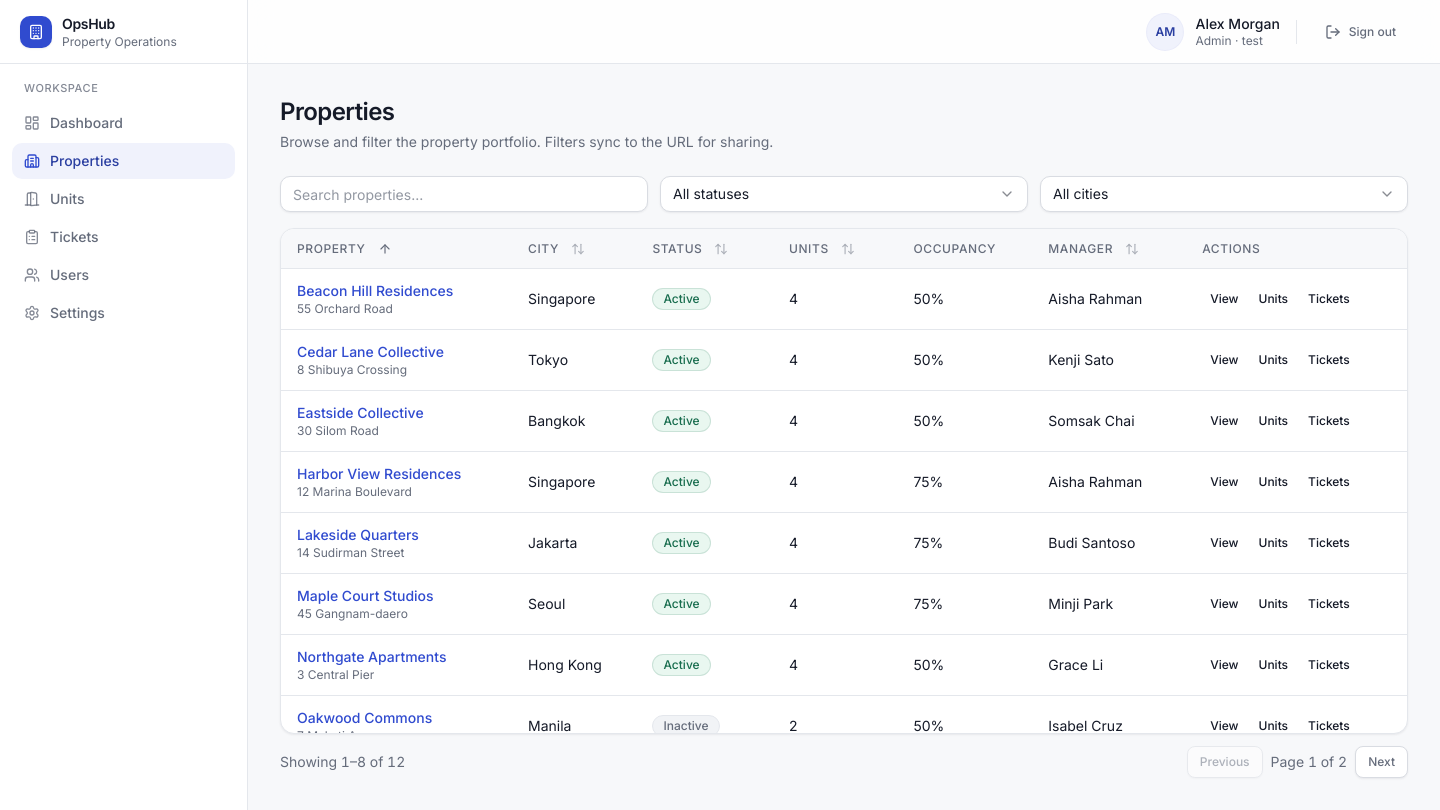
Test: Properties page › filters properties by status via URL-backed controls
Check: the link "Harbor View Residences" is shown, box x1=297 y1=465 x2=461 y2=482
Step 1. Click the dropdown named "Filter by status" → (711, 194), box x1=660 y1=176 x2=1028 y2=212
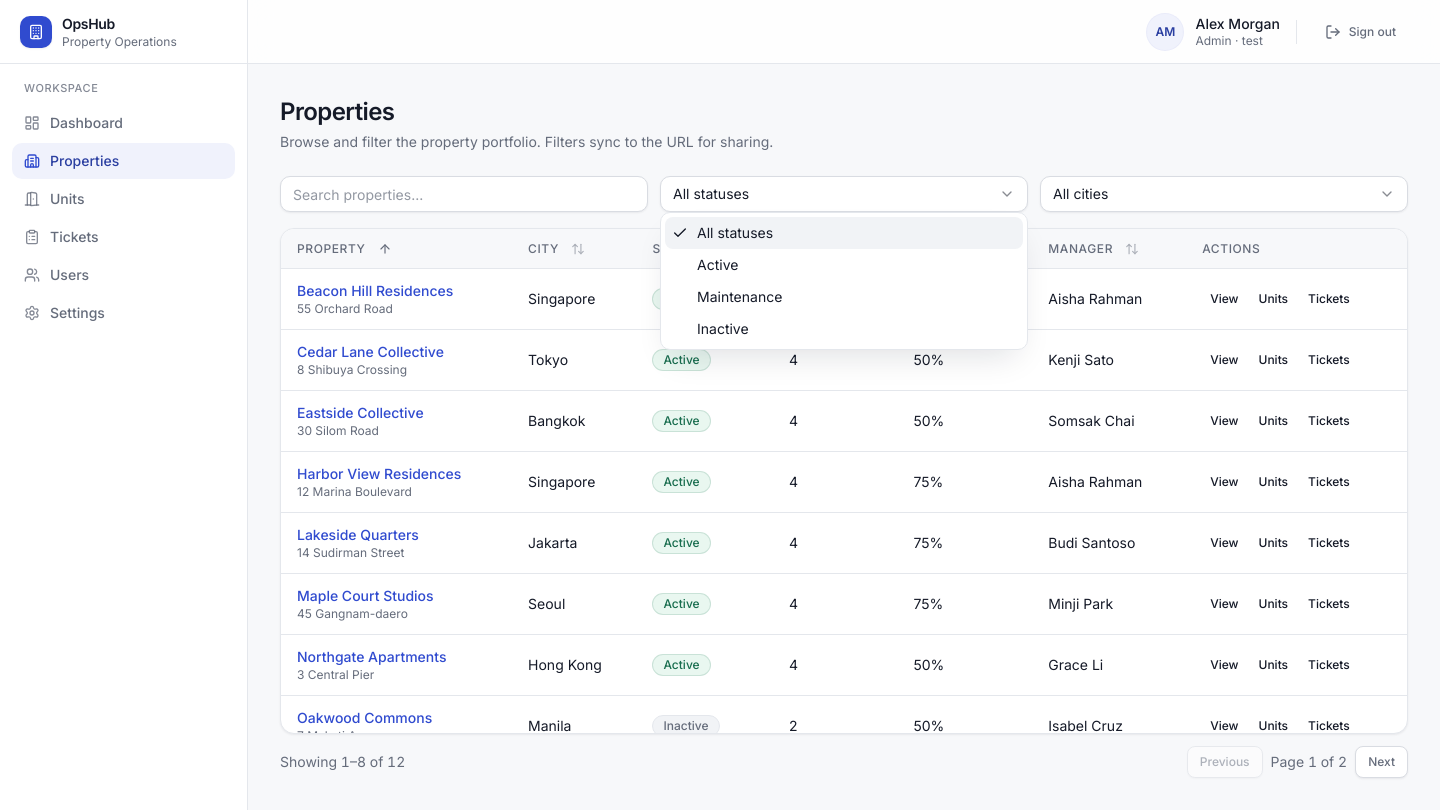
Step 2. Click the option "Inactive" → (723, 328), box x1=697 y1=320 x2=749 y2=337
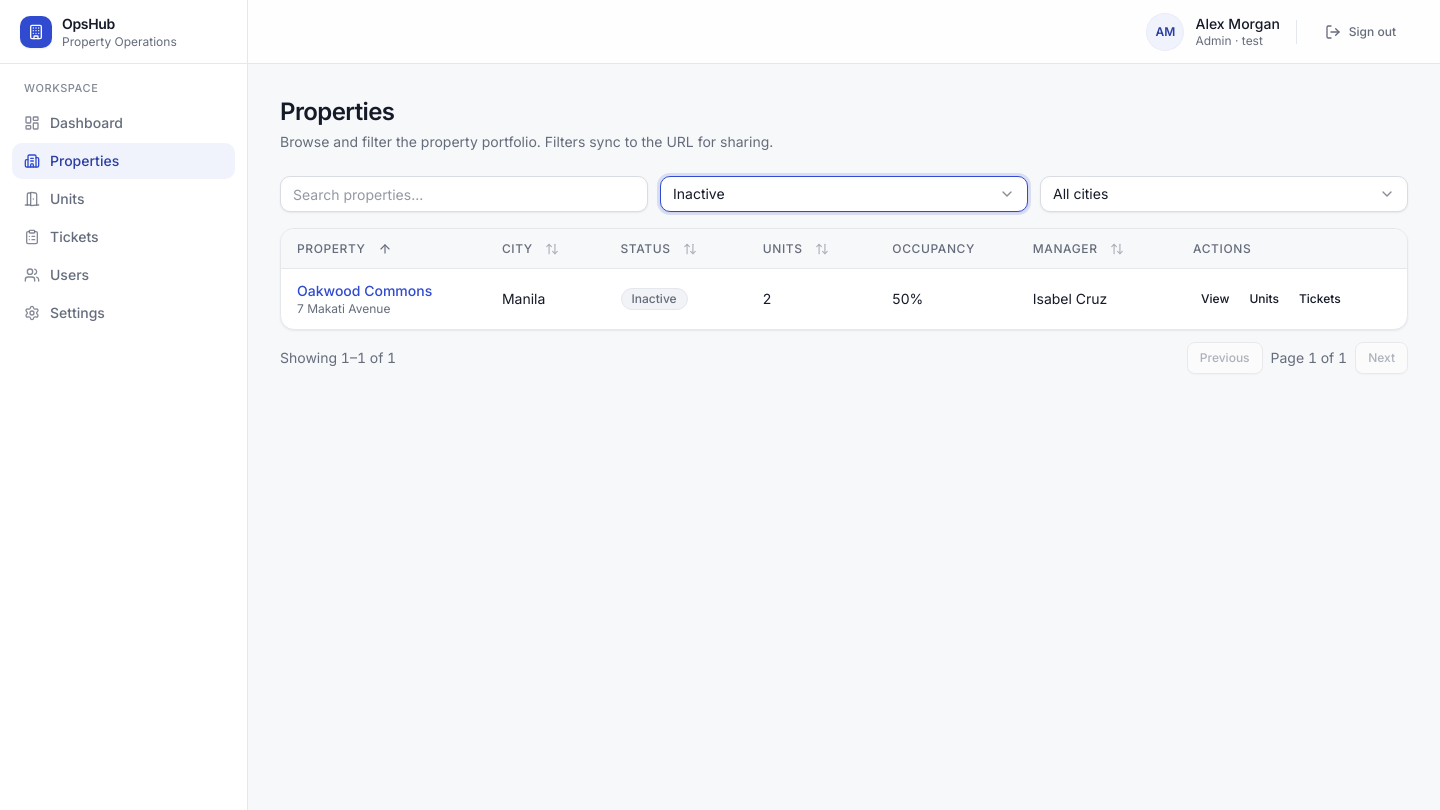
Check: the link "Oakwood Commons" is shown, box x1=297 y1=282 x2=432 y2=299
Check: the link "Harbor View Residences" is gone
